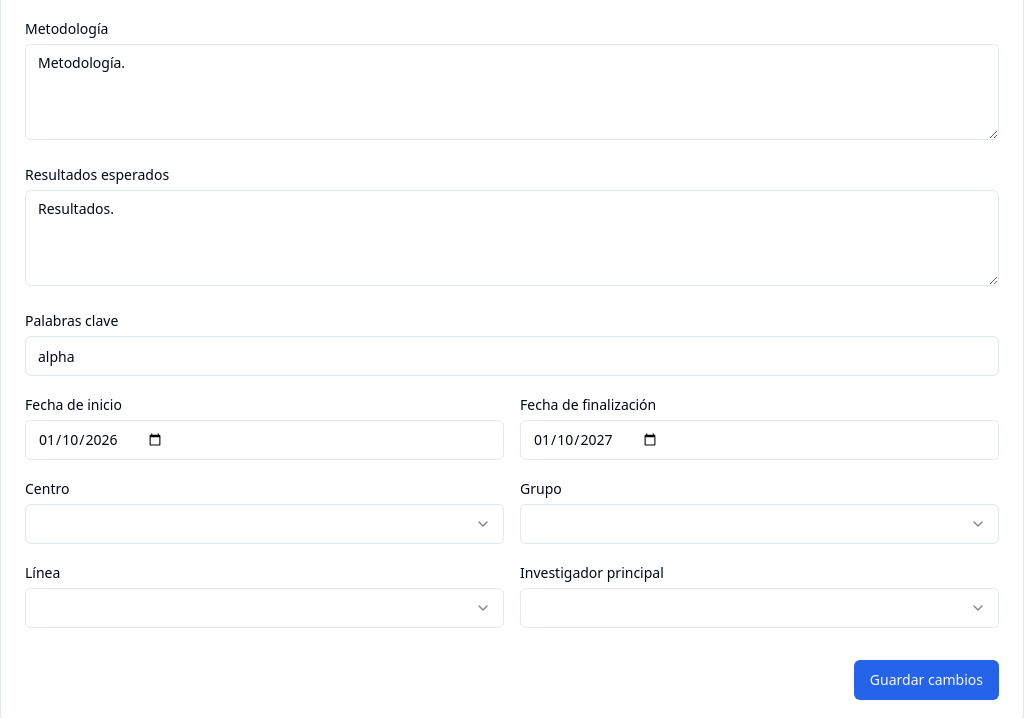
Scenario: ProjectForm — server errors › maps 400 field errors via setError and does not redirect
(page scrolled)
Click the button "Guardar cambios" at (926, 680), box [854,660,999,700]
(page scrolled)
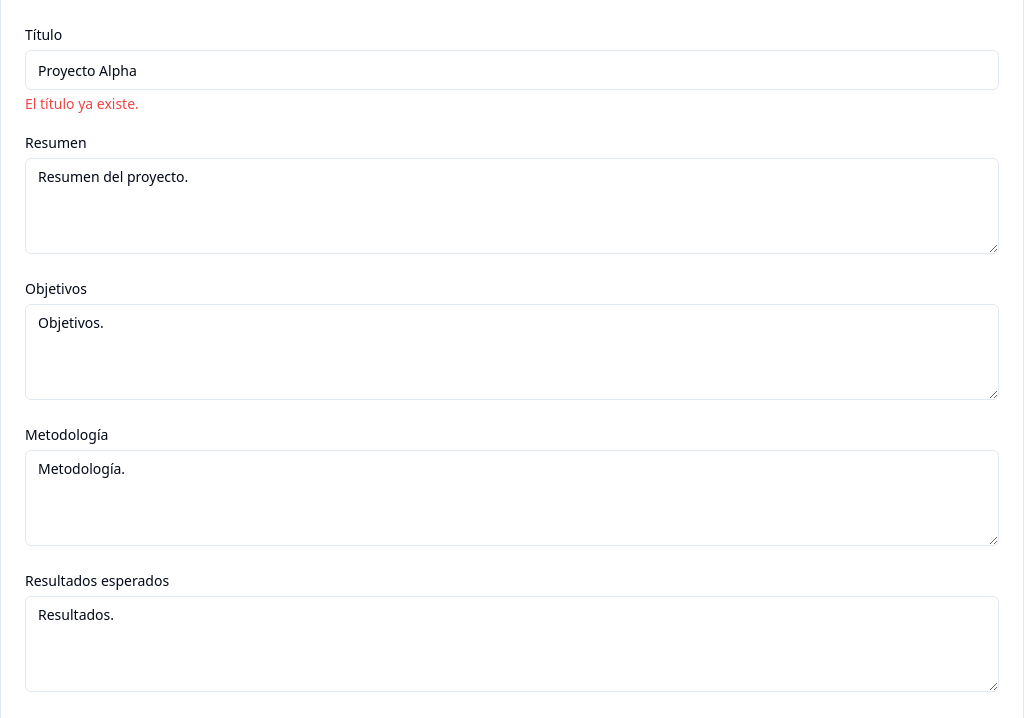
Result: the text "El título ya existe." is shown at [25,94,139,113]
